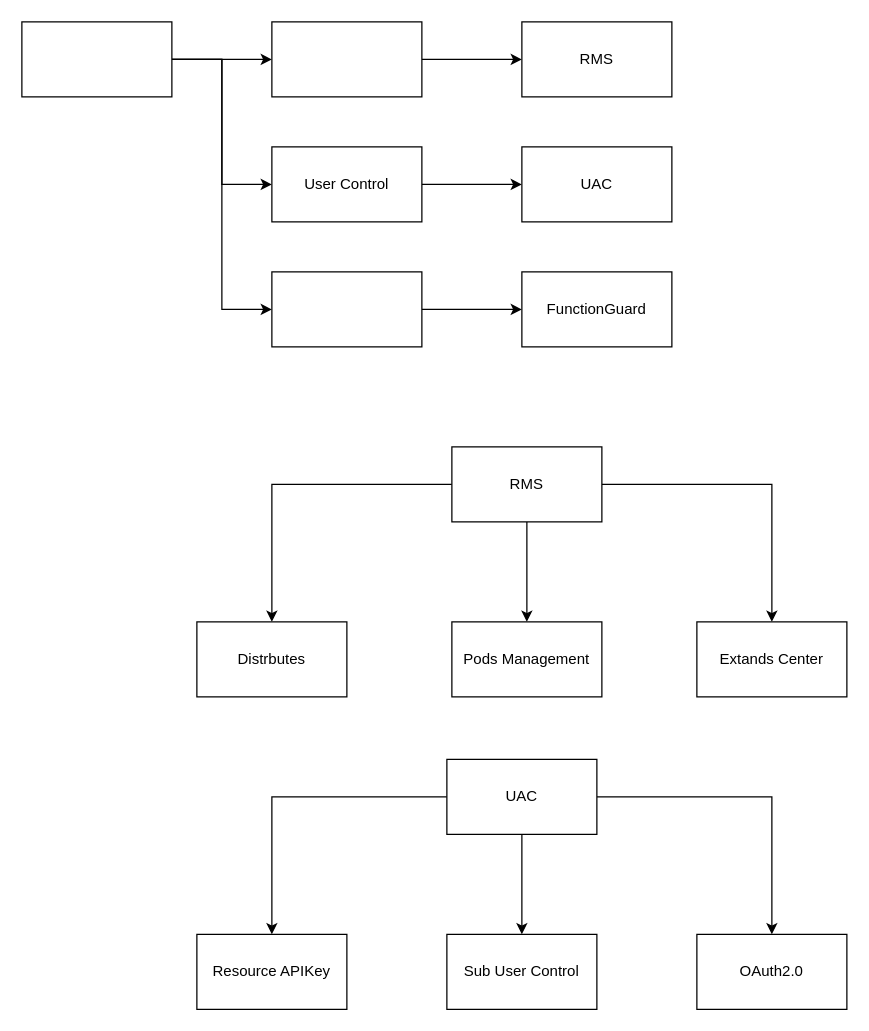
Image size: 869x1031. Some labels were removed from this diagram. Here are the shapes that lost their labels. From the top down, the centre of each, then its label:
At point (96, 59): "User Login".
At point (346, 59): "Management Reources".
At point (346, 309): "Monitoring".
